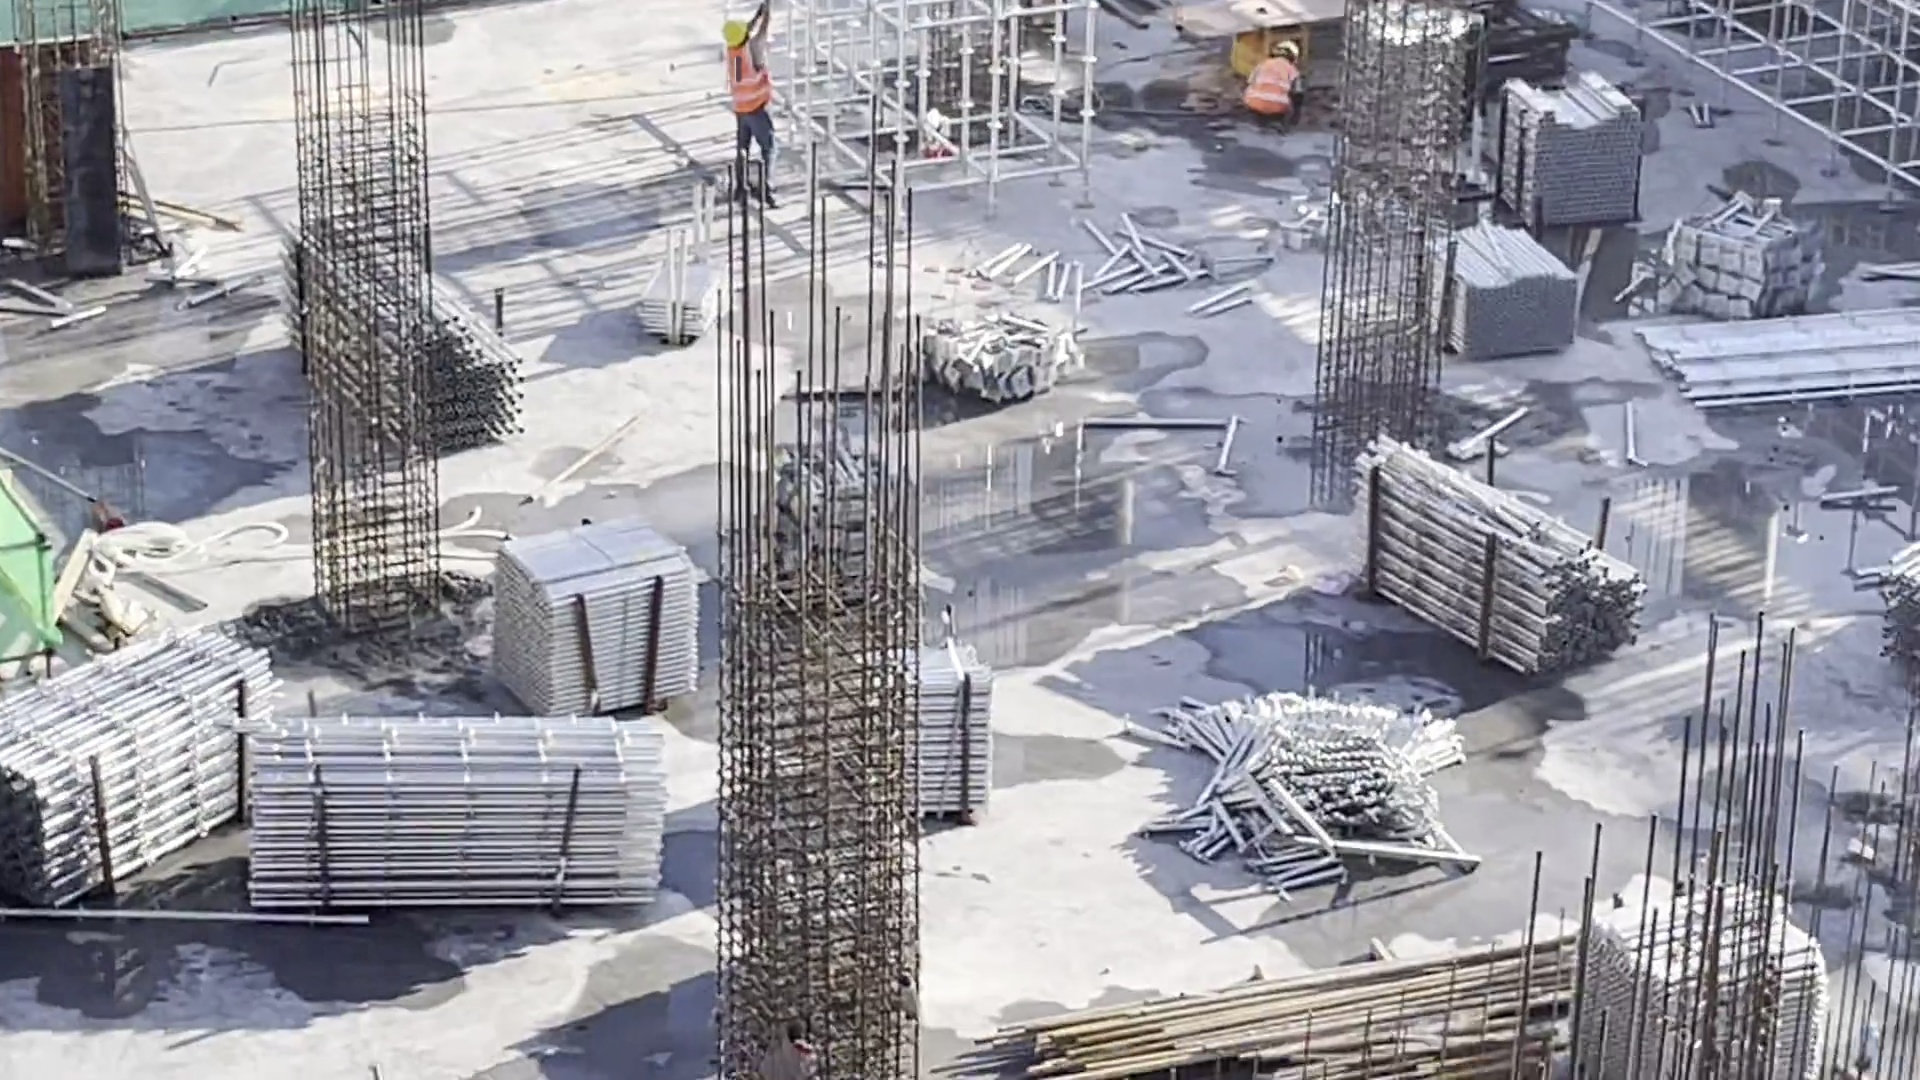cutter: (1192, 1, 1327, 63)
helmet: (720, 19, 753, 44), (1273, 31, 1301, 52)
person: (703, 1, 789, 211), (1234, 32, 1312, 131)
scaffold: (271, 739, 661, 909), (1, 645, 249, 893), (1165, 688, 1474, 878), (1364, 497, 1656, 696), (303, 209, 518, 447), (1560, 899, 1821, 1080), (502, 536, 708, 712), (817, 653, 993, 827), (1659, 306, 1920, 403), (1451, 247, 1595, 395), (1527, 103, 1637, 211), (643, 252, 720, 352)
vest: (716, 52, 780, 131), (1244, 58, 1303, 117)
